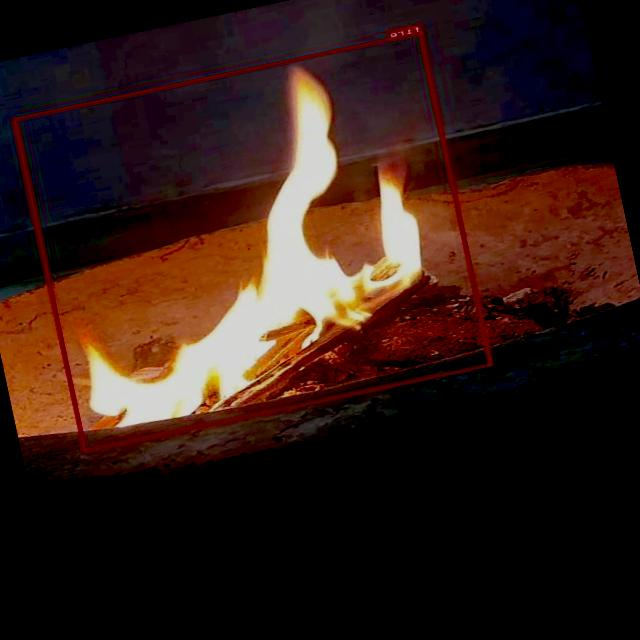fire: (13, 30, 494, 451)
